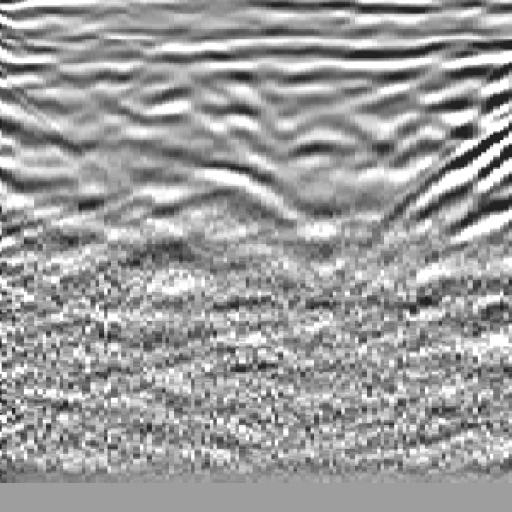metalic: (103, 32, 319, 280)
nonmetalic: (380, 25, 512, 272)
